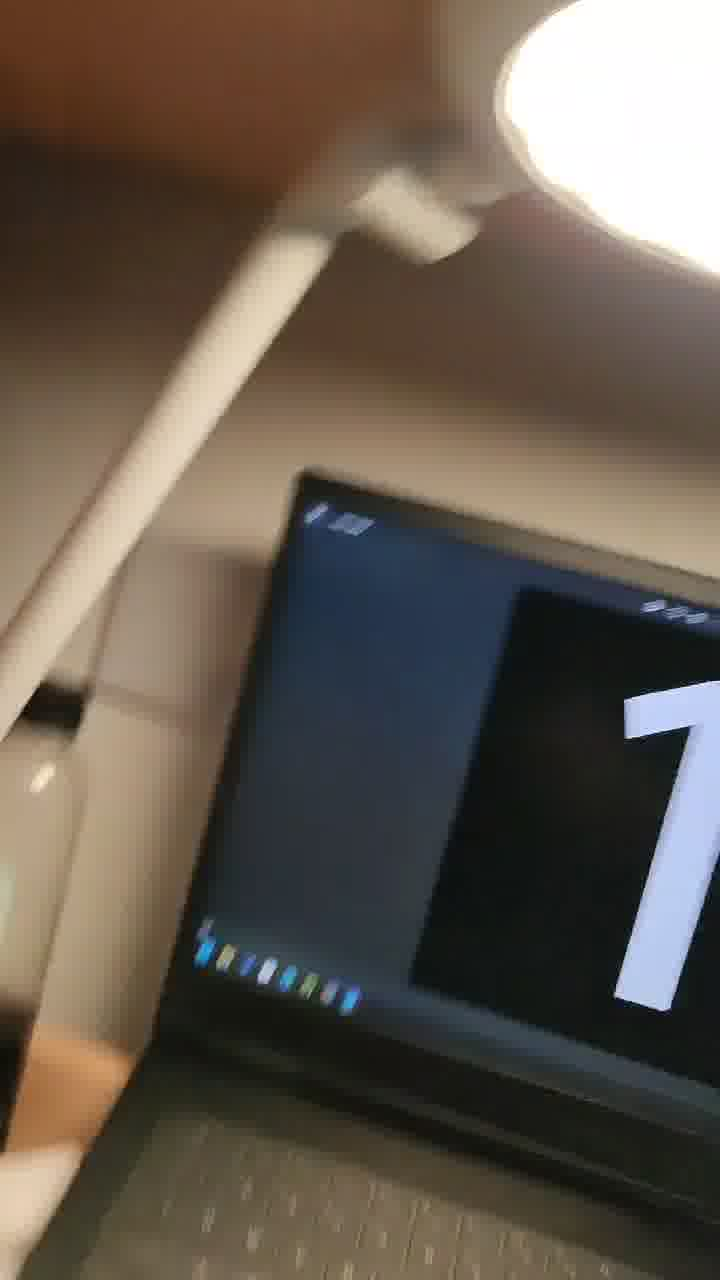one: (555, 605, 720, 1047)
